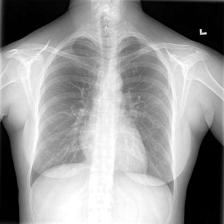normal: (24, 32, 176, 197)
